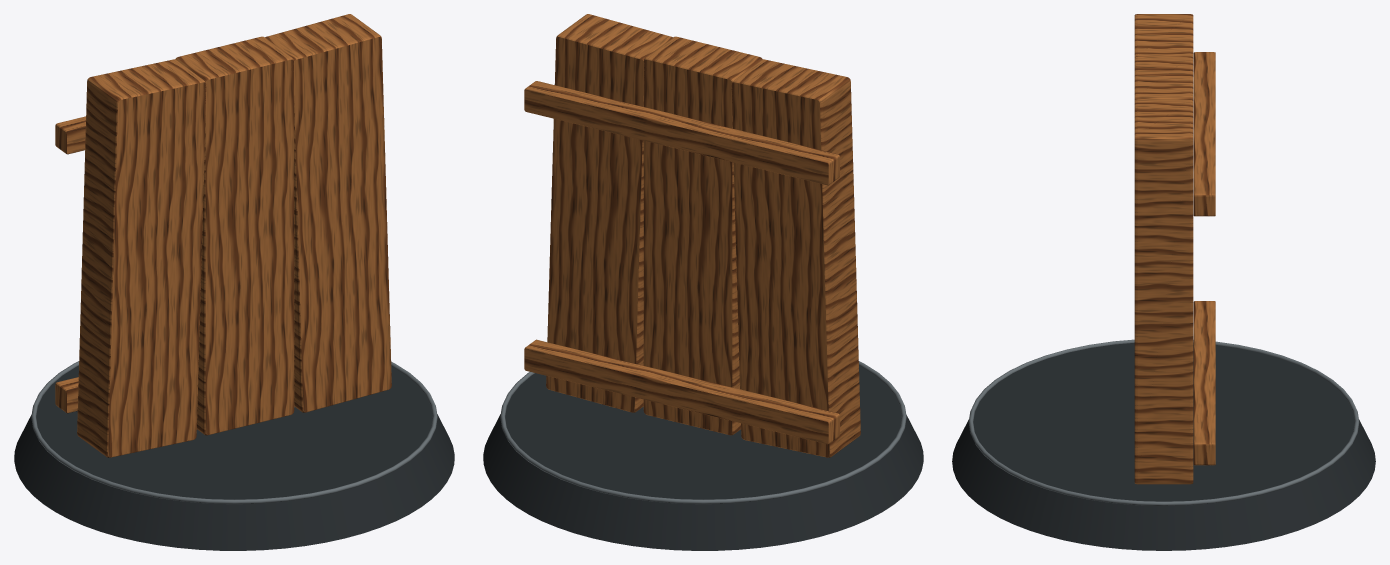
3 views of the same model, side by side, from view 1: azimuth 30°, elevation 25°; view 2: azimuth 150°, elevation 25°; view 3: azimuth 270°, elevation 25° (orthographic). The views are drawn at different scales.
Visible parts, largest first — view 1: surface specimen, neutral specimen stand, specimen edge; view 2: surface specimen, neutral specimen stand, specimen edge; view 3: neutral specimen stand, surface specimen, specimen edge.
Part boxes in pixels (left/top/right/bottom): surface specimen: left=55, top=14, right=391, bottom=457; neutral specimen stand: left=14, top=365, right=454, bottom=550; specimen edge: left=31, top=361, right=437, bottom=504; surface specimen: left=524, top=14, right=860, bottom=457; neutral specimen stand: left=483, top=365, right=923, bottom=550; specimen edge: left=500, top=361, right=906, bottom=504; neutral specimen stand: left=952, top=343, right=1375, bottom=550; surface specimen: left=1134, top=14, right=1215, bottom=484; specimen edge: left=968, top=339, right=1359, bottom=505.
Size of the model in its own units: 0.54 by 0.5433 by 0.54.
Materials: 3 (1 with a texture image).
